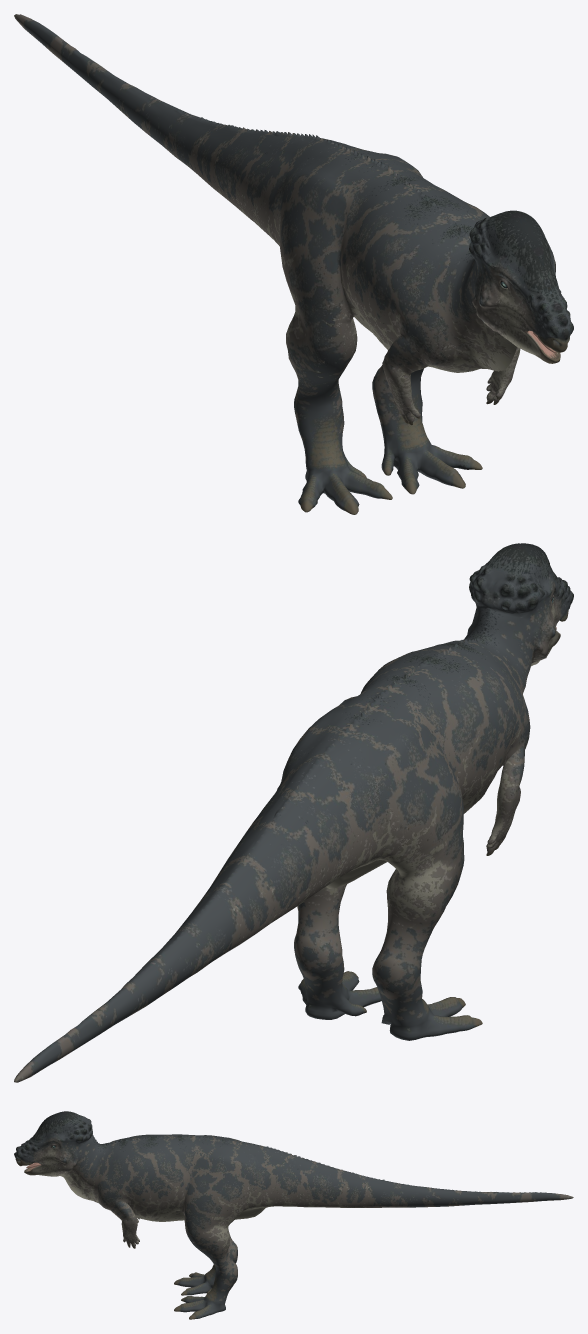
The model's file is Paquicefalosaurio.glb.
3 views of the same model, one above another, from view 1: azimuth 30°, elevation 25°; view 2: azimuth 150°, elevation 25°; view 3: azimuth 270°, elevation 25° (orthographic). The views are drawn at different scales.
Visible parts, largest first — view 1: DW_Paquicefalosaurio_Adulto_Mayor_mesh; view 2: DW_Paquicefalosaurio_Adulto_Mayor_mesh; view 3: DW_Paquicefalosaurio_Adulto_Mayor_mesh.
Boxes of the visible parts, x1=… form: DW_Paquicefalosaurio_Adulto_Mayor_mesh: x1=14, y1=14, x2=573, y2=514; DW_Paquicefalosaurio_Adulto_Mayor_mesh: x1=14, y1=543, x2=573, y2=1082; DW_Paquicefalosaurio_Adulto_Mayor_mesh: x1=14, y1=1111, x2=573, y2=1319.
Bounding box in the file's own units: 0.1868 × 0.3669 × 1.
Materials: 2 (2 with a texture image).
